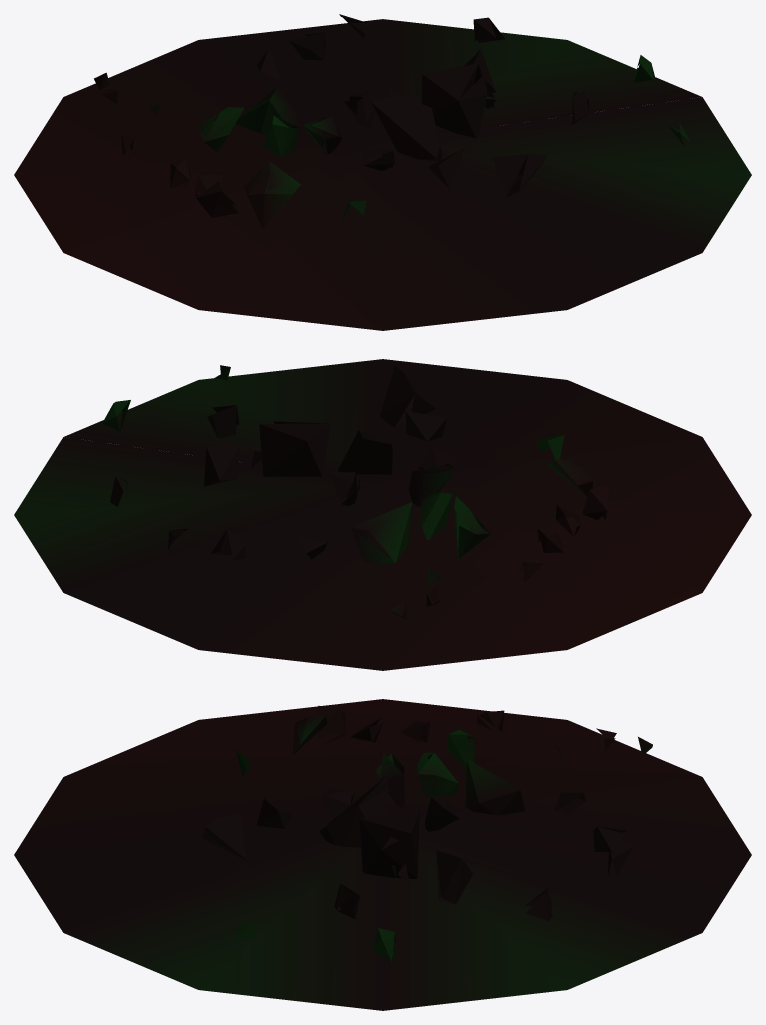
File: tf_talus_patch_12m_lod1.glb
3 views of the same model, one above another, from view 1: azimuth 30°, elevation 25°; view 2: azimuth 150°, elevation 25°; view 3: azimuth 270°, elevation 25° (orthographic).
Visible parts, largest first — view 1: tf_talus_patch_12m_lod1; view 2: tf_talus_patch_12m_lod1; view 3: tf_talus_patch_12m_lod1.
Boxes of the visible parts, x1=… form: tf_talus_patch_12m_lod1: x1=14, y1=14, x2=751, y2=330; tf_talus_patch_12m_lod1: x1=14, y1=359, x2=751, y2=670; tf_talus_patch_12m_lod1: x1=14, y1=699, x2=751, y2=1010.
Bounding box in the file's own units: 13.2 × 1.47 × 13.2.
